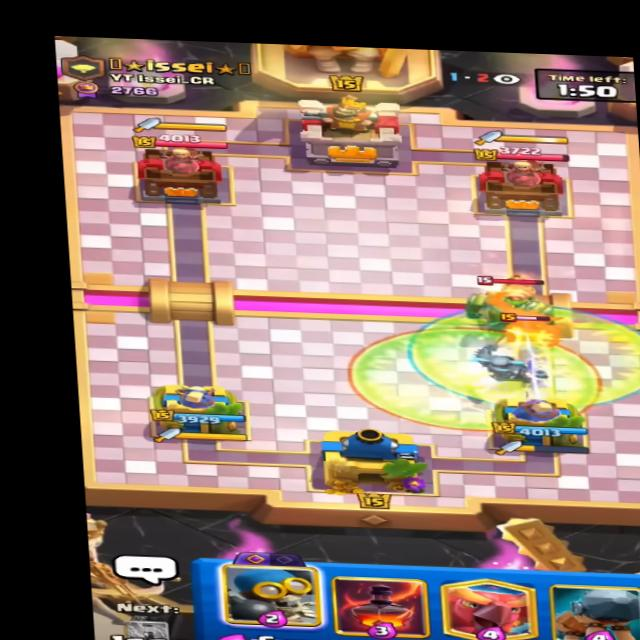goblin-curse: (344, 324, 605, 436)
goblin-machine: (474, 267, 569, 320)
pekka: (478, 302, 575, 350)
